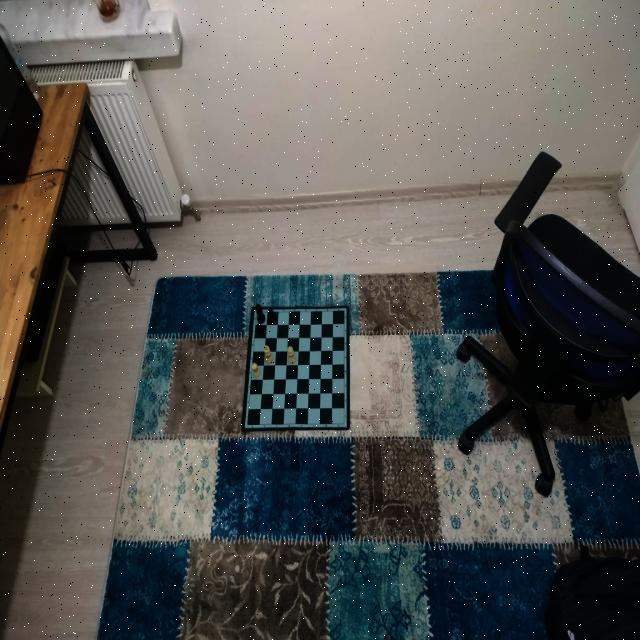corner: (243, 418, 252, 431), (340, 306, 348, 316), (341, 419, 347, 428), (254, 309, 259, 317)
